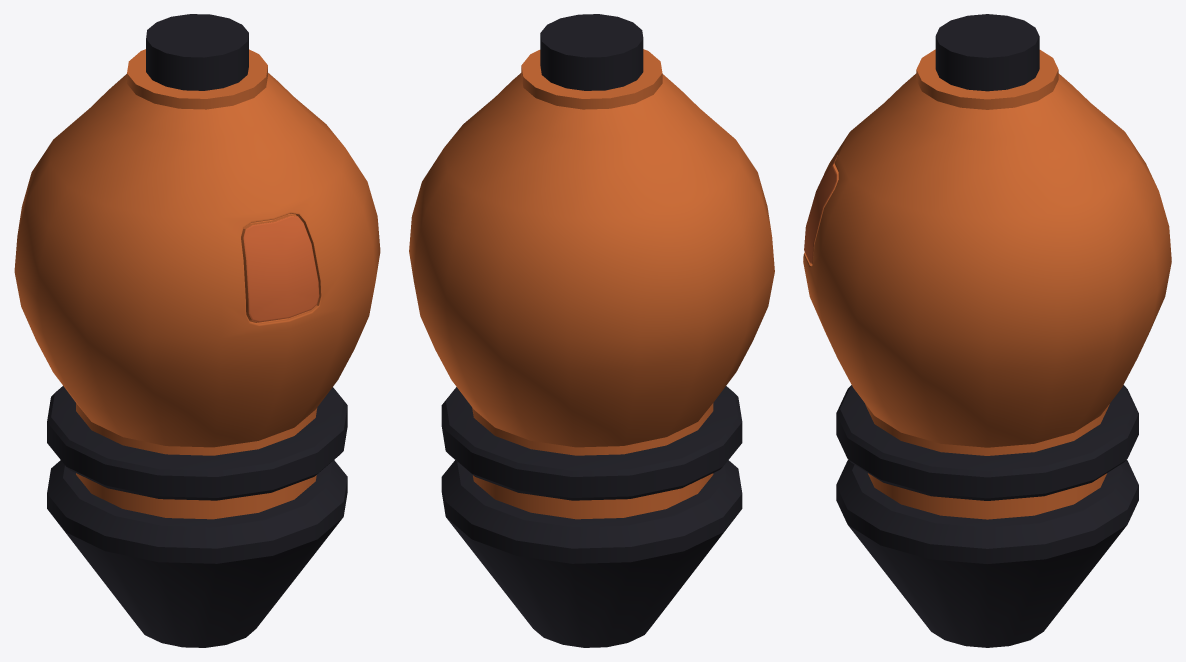
The model's file is body.glb.
The picture shows the model from 3 angles, left to right: view 1: azimuth 30°, elevation 25°; view 2: azimuth 150°, elevation 25°; view 3: azimuth 270°, elevation 25°; orthographic projection.
Visible parts, largest first — view 1: body; view 2: body; view 3: body.
Boxes of the visible parts, box(x1,y1,x2,y2) form: body: box(14, 14, 380, 647); body: box(409, 14, 774, 647); body: box(803, 14, 1171, 647).
Bounding box in the file's own units: 1.02 × 1.79 × 1.02.
